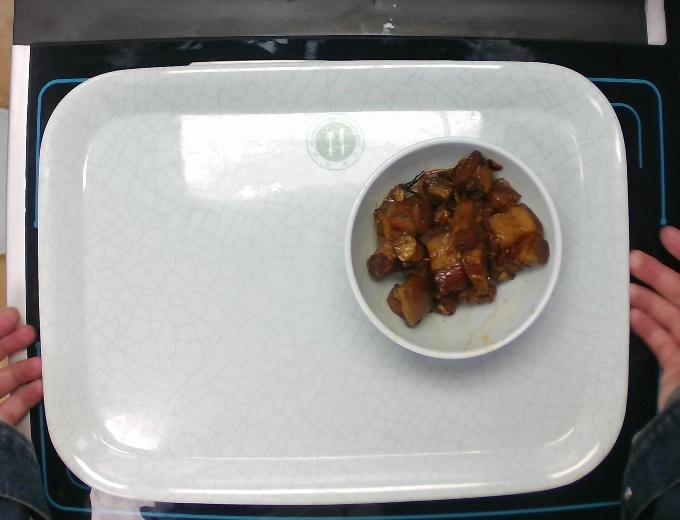JYsf-Fan_Wan: (344, 138, 566, 366)
